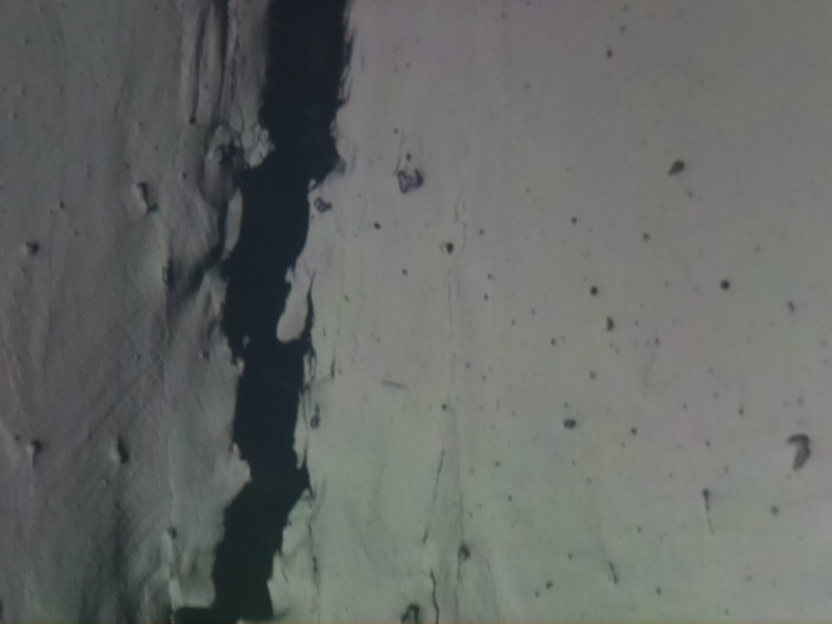crack: (179, 0, 355, 623), (212, 0, 237, 95)
